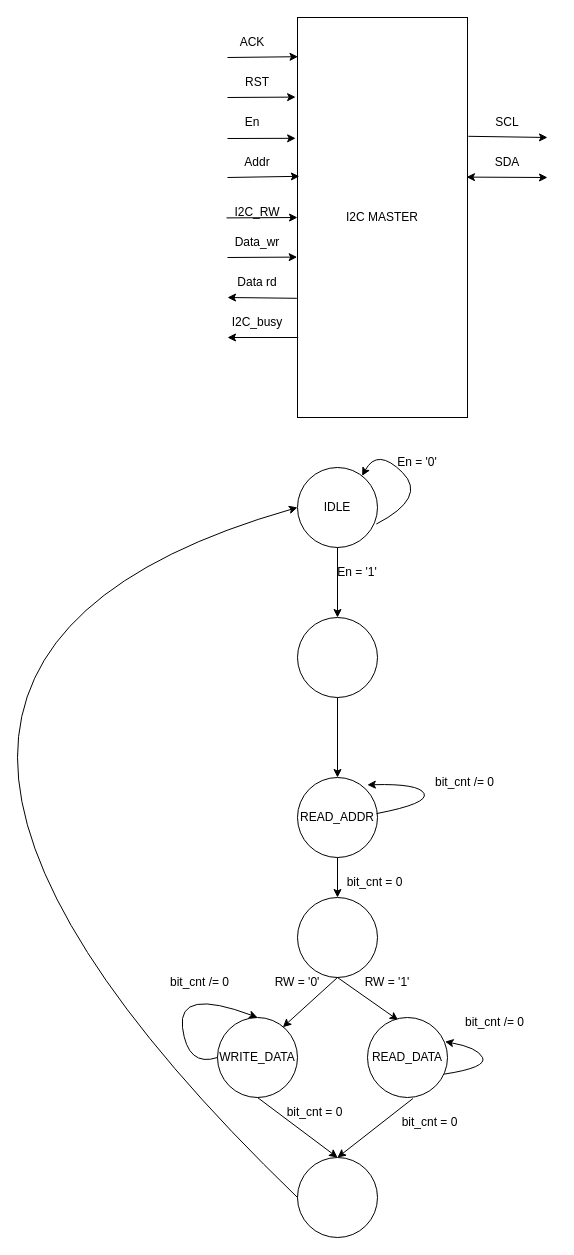
The diagram is 574 pixels wide and 1255 high, and some of its shapes have lost their labels. The centre of each missing label's shape, as x and y in pixels:
"START" belongs at [337,657].
"STOP" belongs at [337,1197].
"WDATA" belongs at [337,937].
